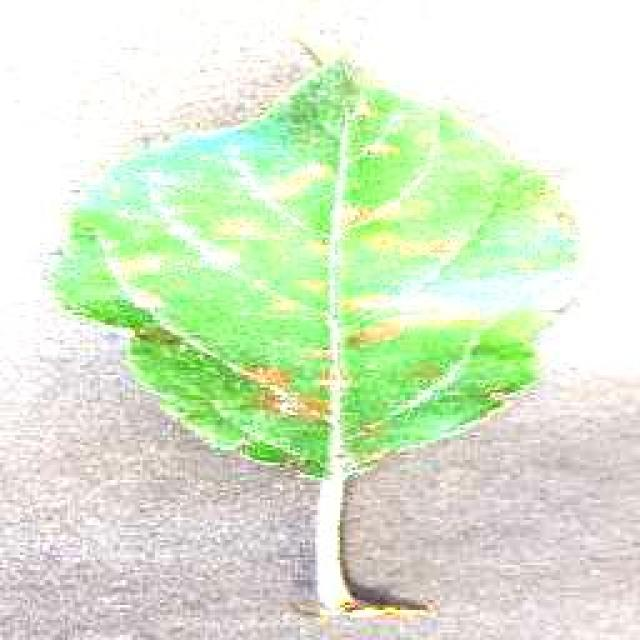apple rust disease: (48, 33, 582, 625)
